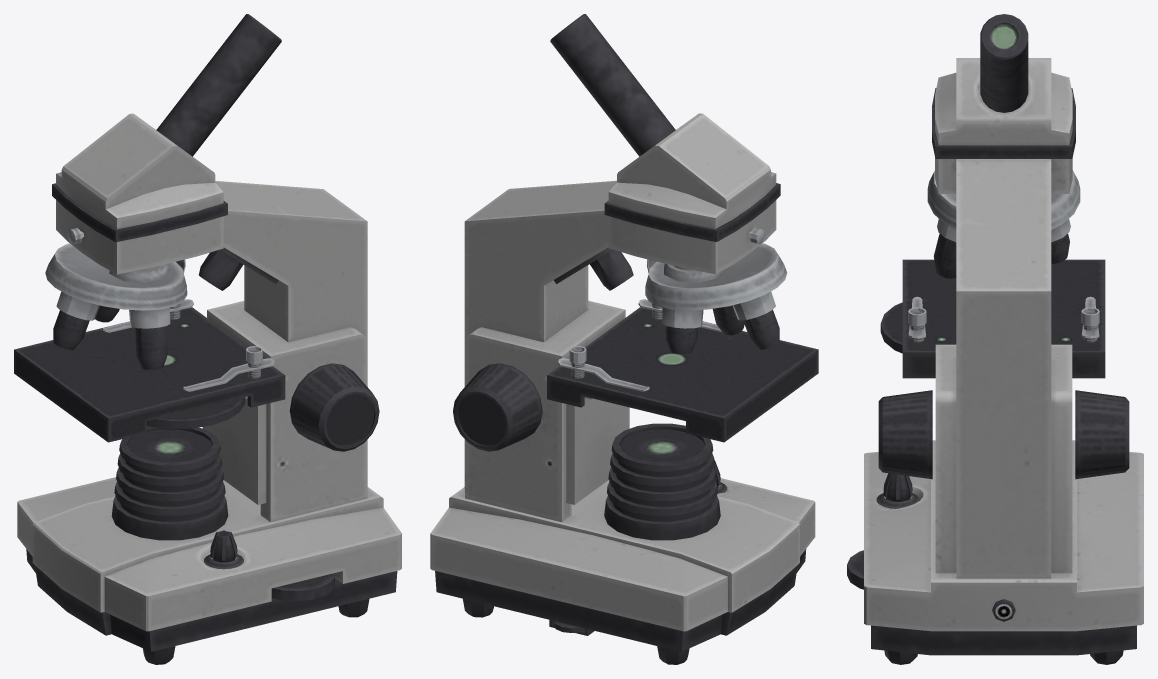
The model's file is microscope.fbx.
The picture shows the model from 3 angles, left to right: view 1: azimuth 30°, elevation 25°; view 2: azimuth 150°, elevation 25°; view 3: azimuth 270°, elevation 25°; orthographic projection. The views are drawn at different scales.
Parts seen in each view (by area): view 1: object_0; view 2: object_0; view 3: object_0.
Boxes of the visible parts, bbox=[...] form: object_0: bbox=[14, 14, 401, 664]; object_0: bbox=[430, 14, 818, 664]; object_0: bbox=[847, 14, 1143, 664].
Size of the model in its own units: 30.67 by 56.34 by 24.57.
1 material, 1 textured.
